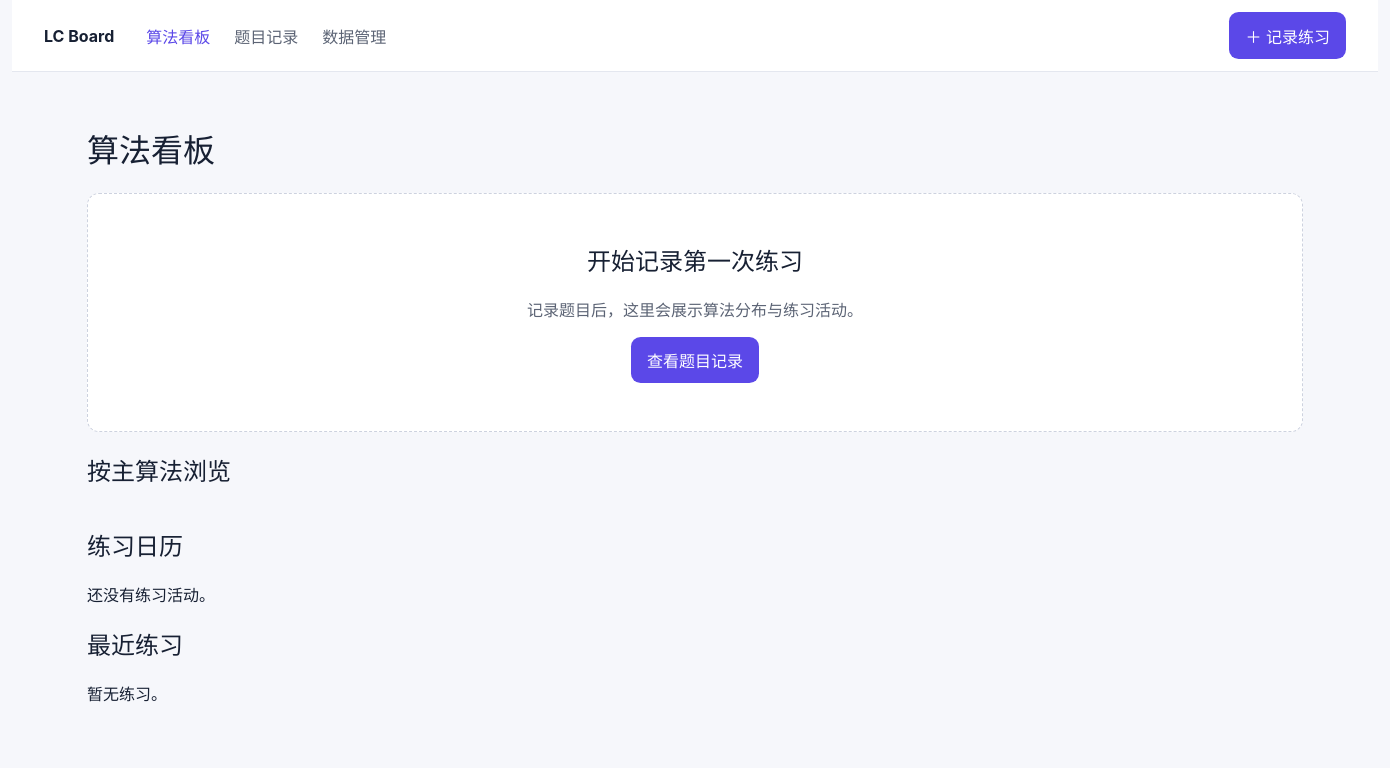
Test: navigates among the three first-release pages
Expected: the heading "算法看板" is shown, [87, 131, 215, 170]
Click the link "题目记录".
click(266, 36)  # box [234, 24, 298, 48]
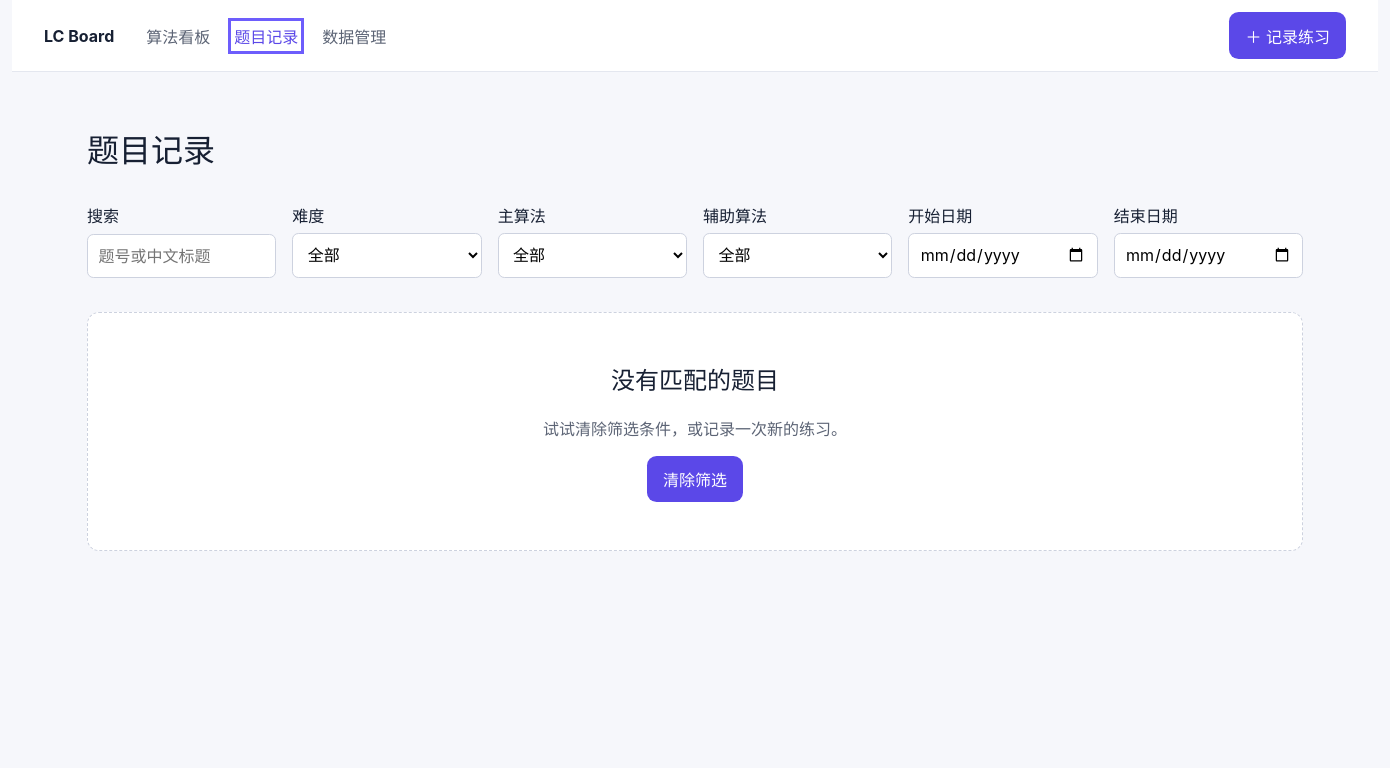
Now the heading "题目记录" is shown, box [87, 131, 215, 170]
Click the link "数据管理".
click(354, 36)  # box [322, 24, 386, 48]
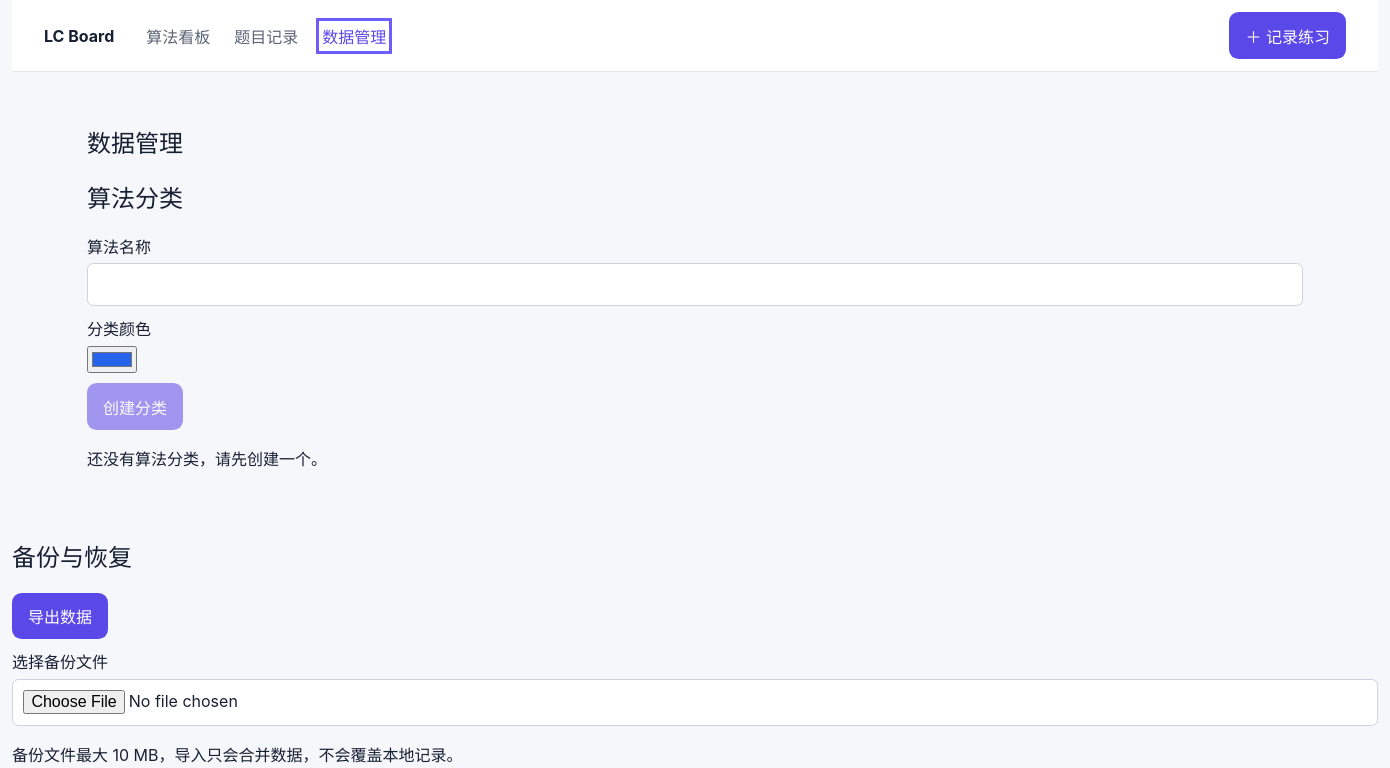
Expected: the button with test id "record-practice" is shown, [1230, 12, 1346, 59]
Now the heading "数据管理" is shown, box [87, 129, 183, 158]
